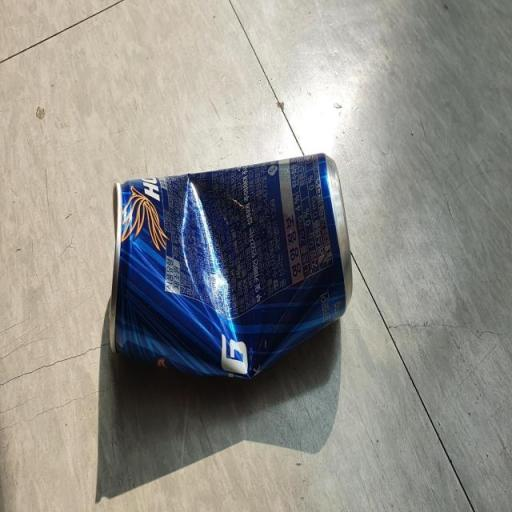metal: (89, 135, 374, 403)
